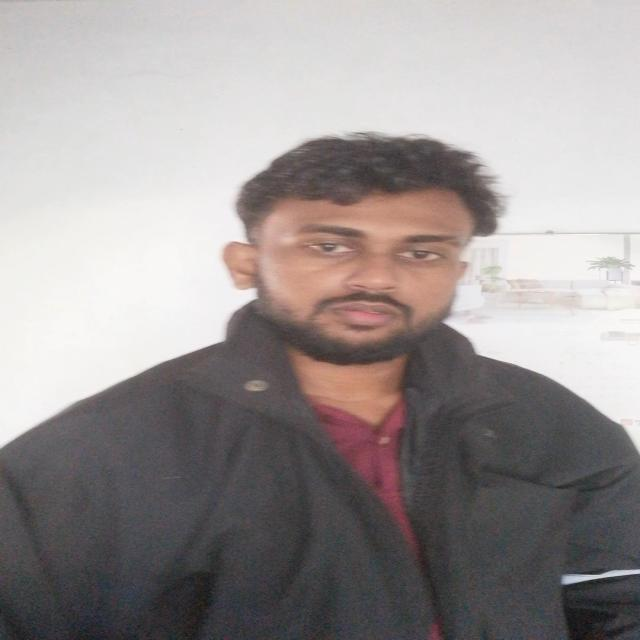Jacket_Wearer: (1, 275, 640, 640)
